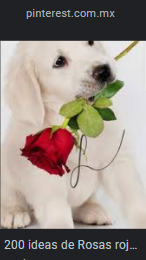RedRose: (16, 121, 82, 174)
